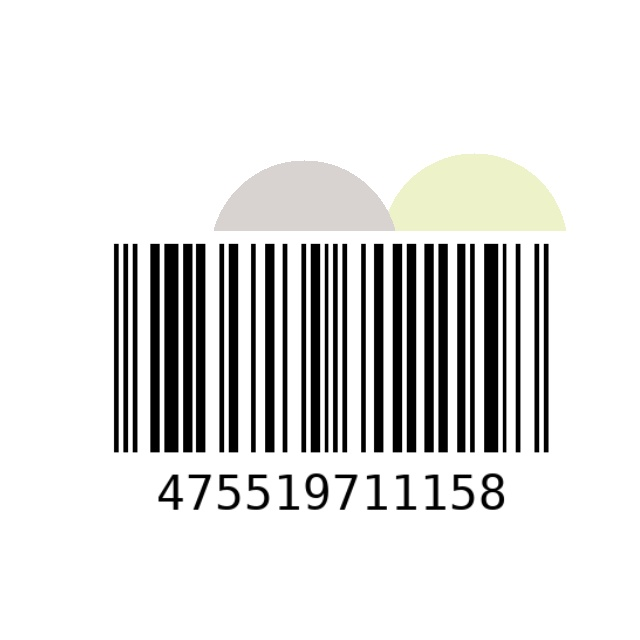barcode: (25, 231, 638, 559)
